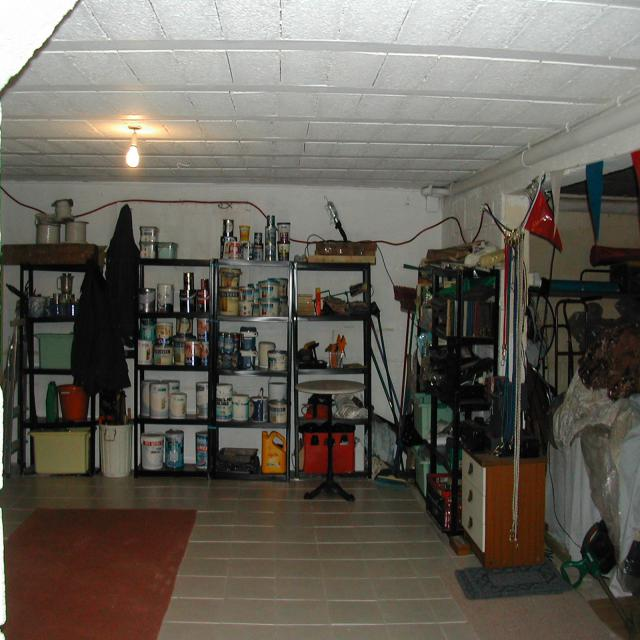broom handle: (375, 351, 407, 487), (392, 283, 422, 413)
bucket crop: (99, 423, 133, 477)
bulb: (124, 130, 139, 166)
can: (139, 430, 164, 470), (164, 428, 183, 467), (149, 380, 168, 417), (220, 285, 239, 316), (194, 430, 207, 472), (232, 392, 248, 422), (156, 283, 173, 311), (259, 296, 280, 317), (178, 288, 197, 311), (268, 348, 285, 370)
cans: (218, 331, 240, 370)
ceiling beam: (0, 0, 639, 192), (527, 149, 639, 199)
floor -X: (0, 467, 639, 639)
jacket occluded: (71, 261, 131, 398), (104, 201, 139, 346)
ladder crop: (3, 301, 21, 474)
paint can: (183, 338, 201, 366)
rug -partially obscured-: (456, 561, 572, 599)
shelves crop: (23, 257, 371, 476), (413, 259, 500, 537)
table -X: (294, 379, 365, 499)
tallboy: (462, 440, 546, 569)
wall clock: (1, 179, 441, 470), (436, 95, 639, 549), (521, 197, 639, 516)
